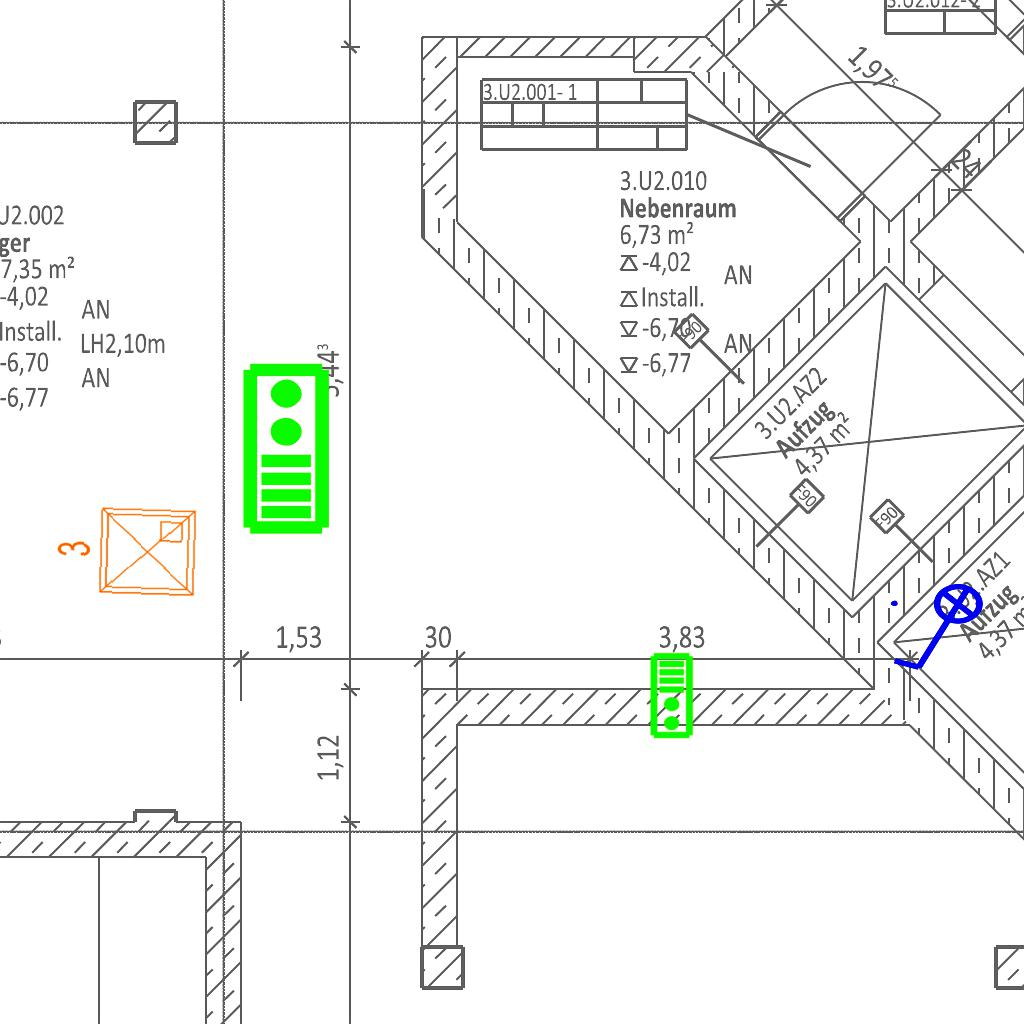Ausschalter_beleuchtet: (885, 582, 997, 678)
Einbaudownlights_LED_Konferenzraeume: (50, 498, 204, 608)
Gegensprechanlage_mit_Video: (237, 360, 332, 536), (649, 652, 696, 740)
